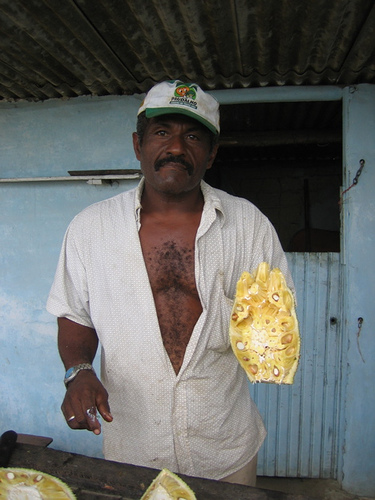jackfruit: (227, 263, 300, 385), (0, 465, 80, 498), (136, 470, 196, 498)
